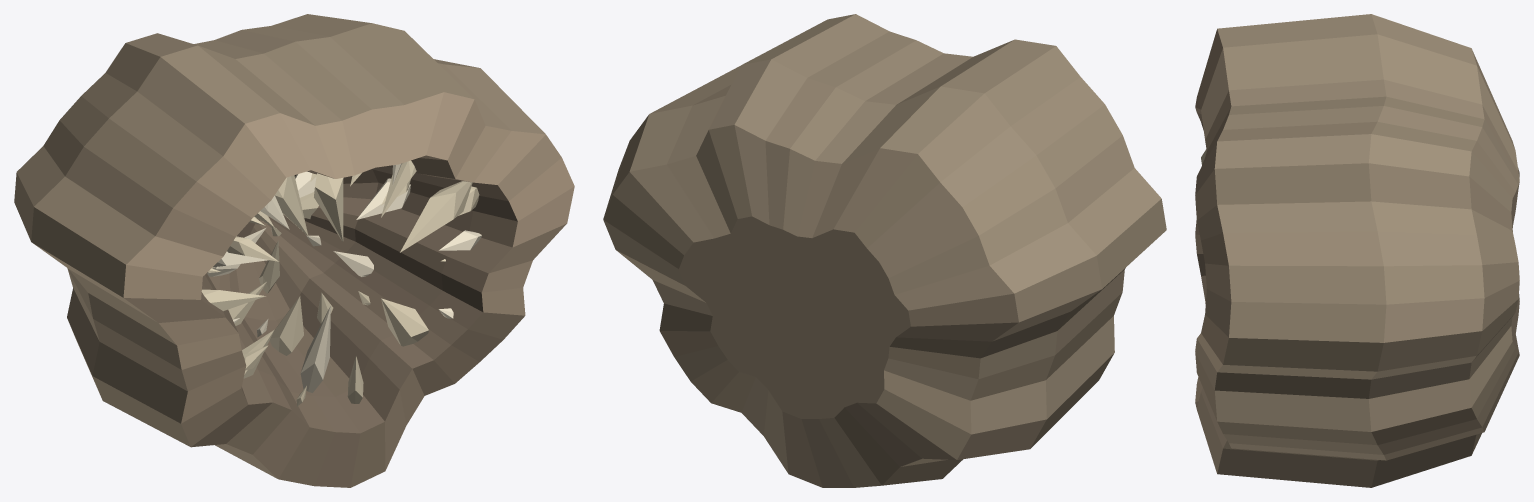
The picture shows the model from 3 angles, left to right: view 1: azimuth 30°, elevation 25°; view 2: azimuth 150°, elevation 25°; view 3: azimuth 270°, elevation 25°; orthographic projection.
Visible parts, largest first — view 1: thick_closed_back_limestone_vug, mixed_inward_scalenohedral_calcite_crystals.001, mixed_inward_scalenohedral_calcite_crystals; view 2: thick_closed_back_limestone_vug; view 3: thick_closed_back_limestone_vug.
Boxes of the visible parts, <box> form: thick_closed_back_limestone_vug: <box>14,14,574,487</box>; mixed_inward_scalenohedral_calcite_crystals.001: <box>201,160,479,406</box>; mixed_inward_scalenohedral_calcite_crystals: <box>207,163,481,392</box>; thick_closed_back_limestone_vug: <box>603,14,1166,487</box>; thick_closed_back_limestone_vug: <box>1195,14,1519,487</box>.
Bounding box in the file's own units: 0.4969 × 0.409 × 0.2941.
